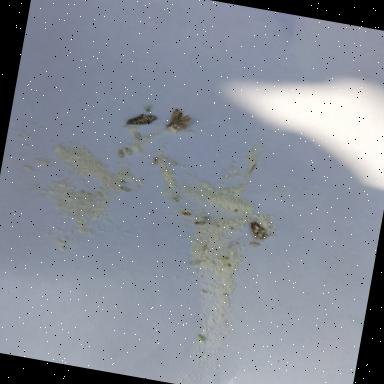pbw: (122, 110, 159, 132), (165, 106, 194, 132), (247, 220, 273, 243), (143, 102, 154, 114), (134, 131, 144, 141), (170, 194, 180, 202), (218, 255, 228, 261), (154, 156, 160, 166), (118, 150, 125, 158), (224, 260, 231, 268)
